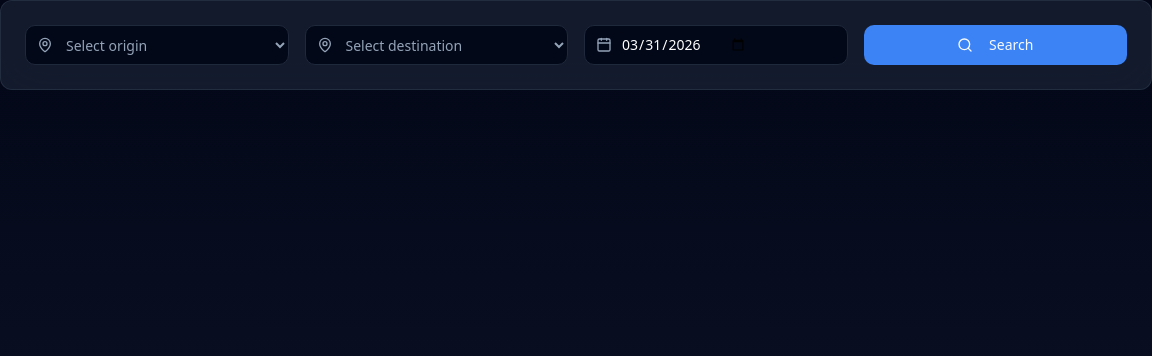
Scenario: SearchForm › shows validation error when origin is empty
The image size is (1152, 356).
Select destination but not origin
Select "Cluj-Napoca" in the 2nd dropdown named "Destination" at point(436, 45), box 304,25 -> 568,65
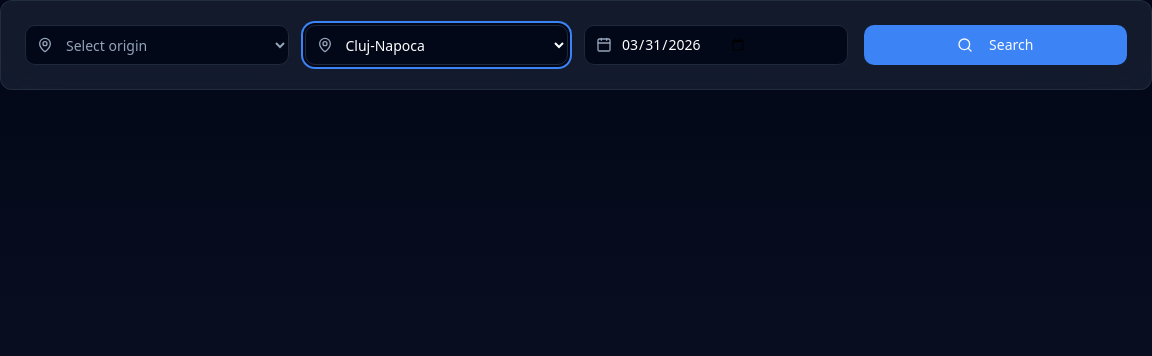
Click the button "Search" at point(995, 45), box 864,25 -> 1127,65
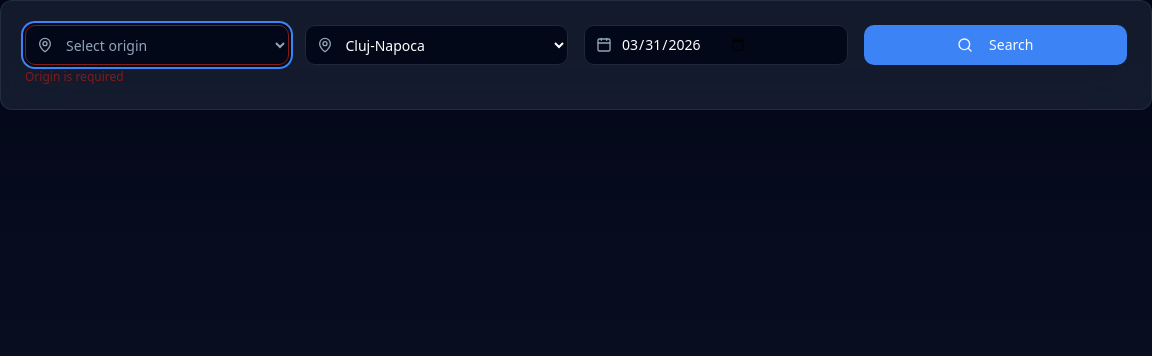
expect the text "Origin is required" is shown: met, box 25,68 -> 124,85
